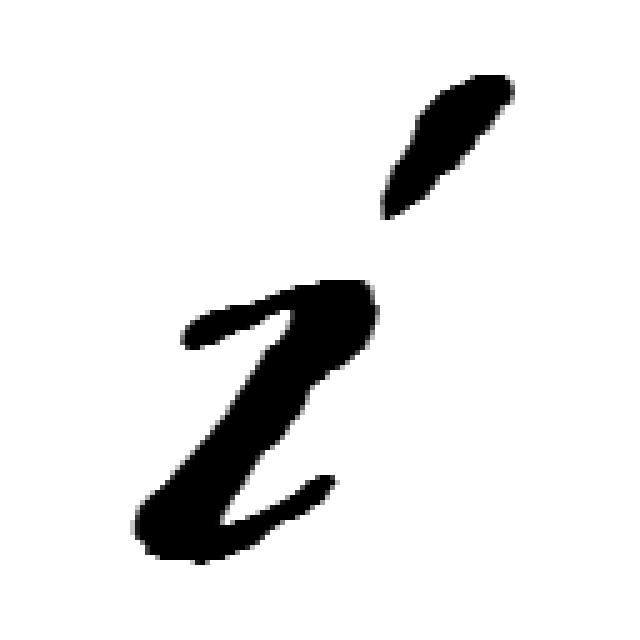I: (137, 74, 532, 579)
